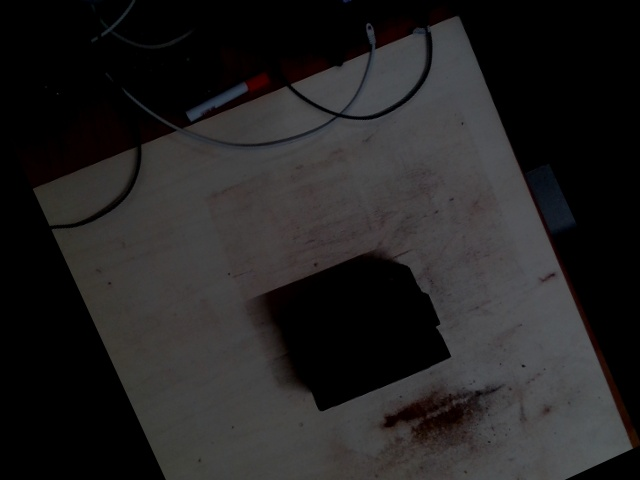brick-side: (298, 294, 441, 380), (280, 267, 421, 352), (309, 331, 450, 411)
